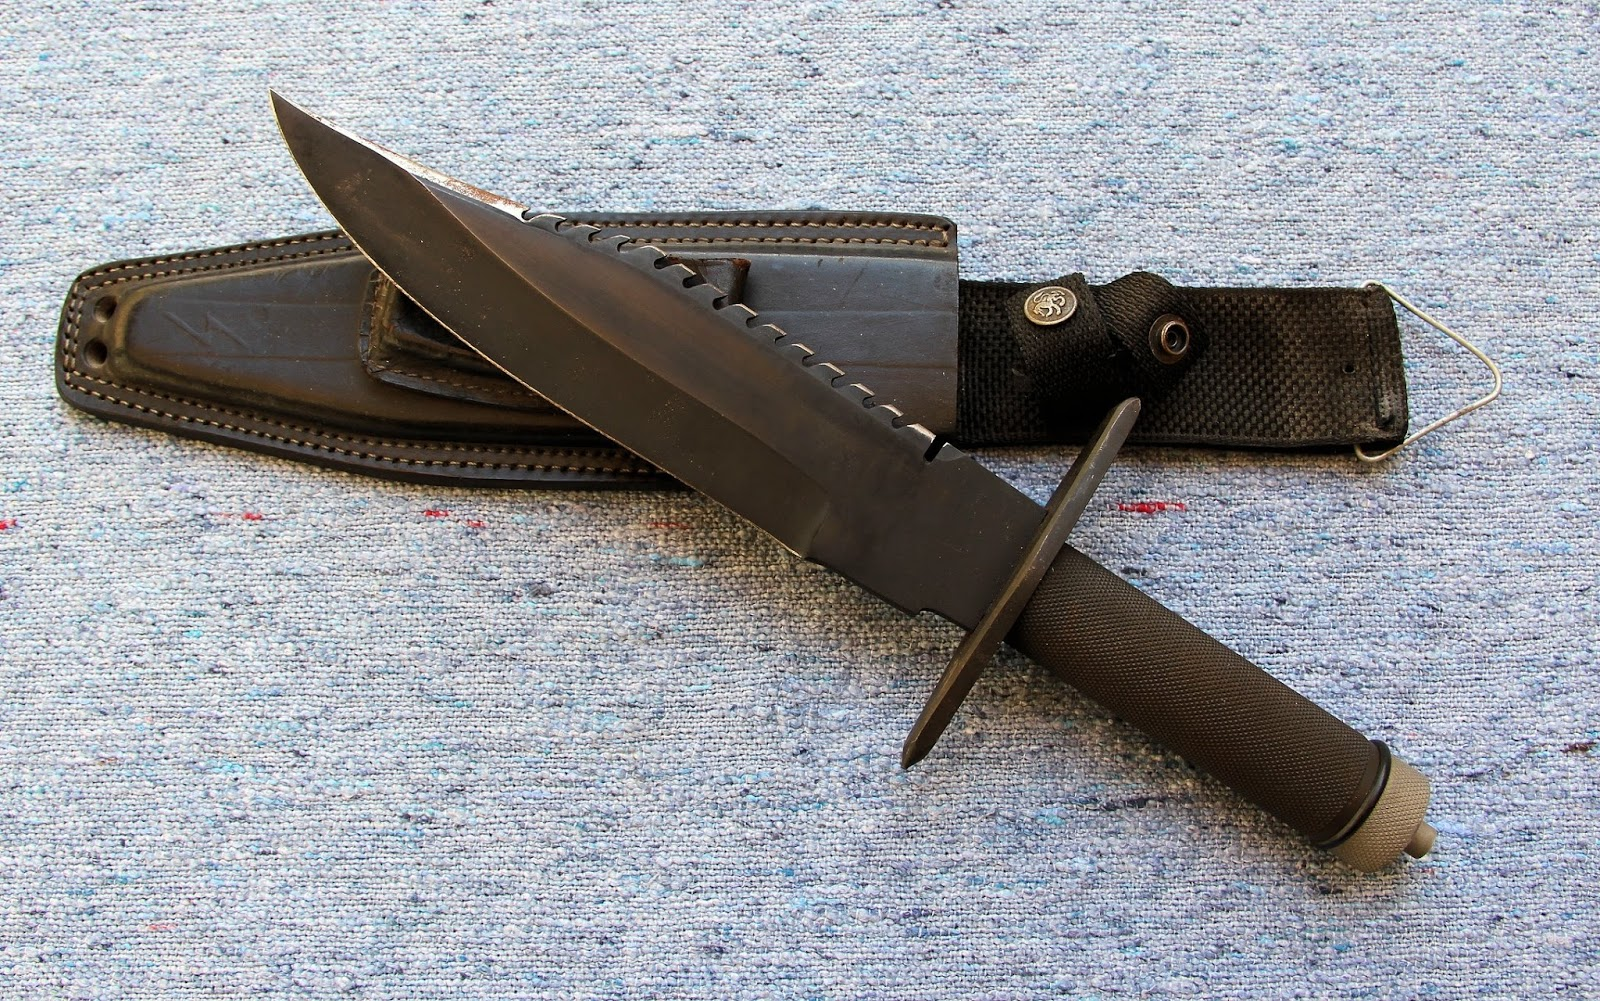knife: (247, 71, 1036, 605)
